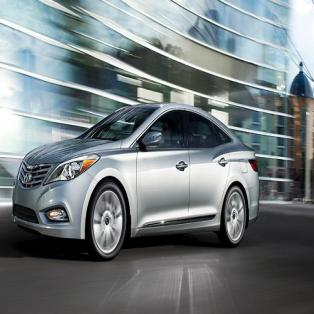Auto: (11, 101, 261, 263)
